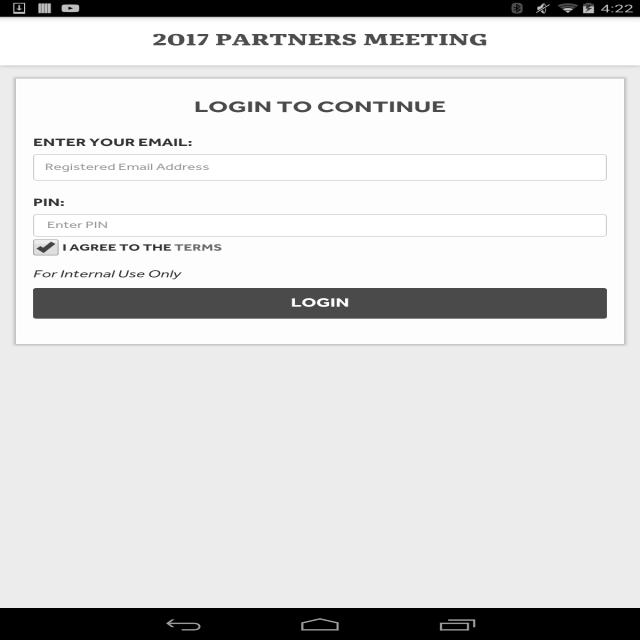Button: (21, 282, 616, 324)
CheckBox: (27, 238, 64, 260)
EditText: (25, 148, 615, 187), (27, 208, 613, 237)
TextView: (143, 26, 498, 51), (176, 93, 472, 115), (70, 239, 238, 255)
